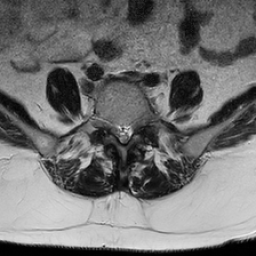CCS_normal: (120, 116, 126, 150)
LFS_normal: (133, 108, 142, 137)
LLS_normal: (126, 115, 133, 146)
RFS_normal: (105, 110, 113, 140)
RLS_normal: (113, 114, 120, 147)
